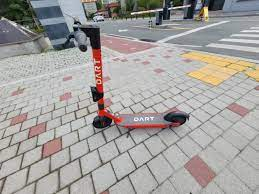guide_blocks: (187, 52, 259, 81)
kick_board: (63, 18, 190, 129)
kick_body: (118, 113, 165, 125)
kick_handler: (65, 17, 101, 51)
kick_neck: (92, 53, 104, 110)
kick_wheel: (165, 111, 188, 126), (93, 115, 111, 128)
